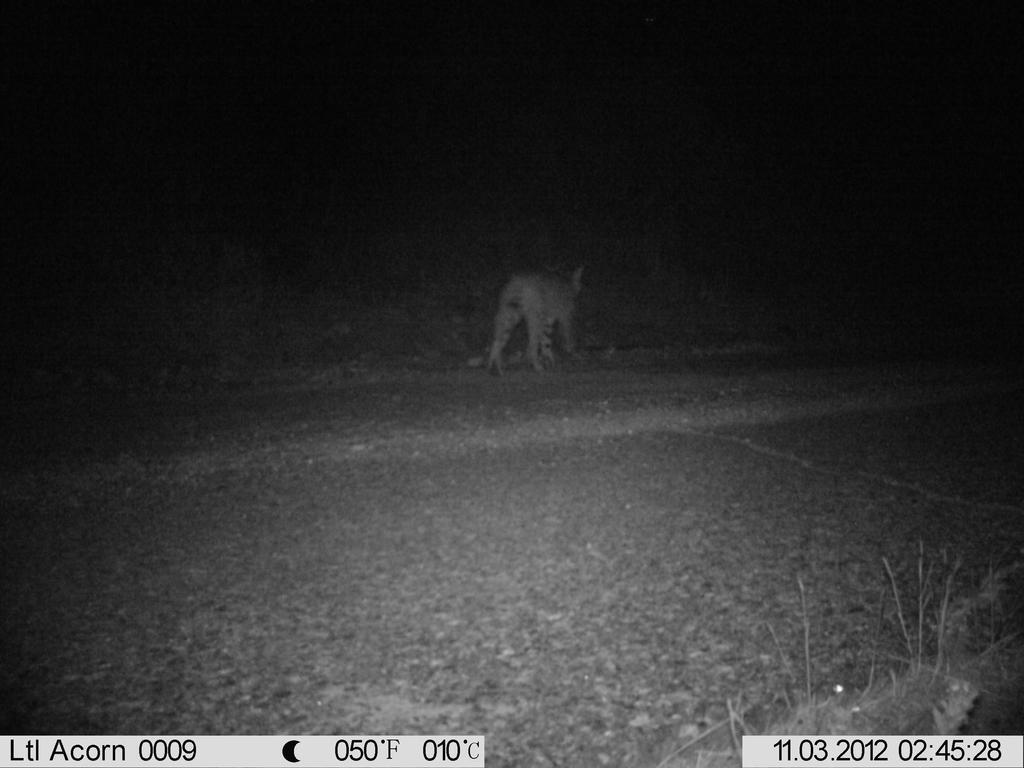bobcat: (466, 232, 658, 404)
